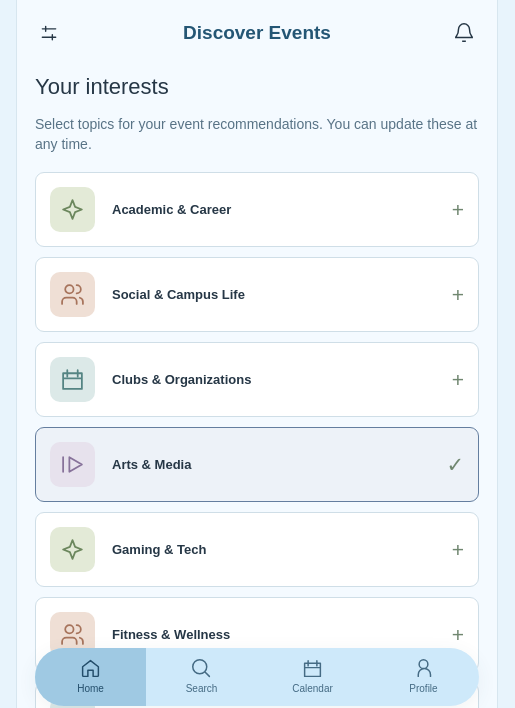
interests load, can be edited, and are saved through the API
Check: the checkbox labelled "Arts & Media ✓" is checked, box [35,428,479,502]
Click the checkbox labelled "Gaming & Tech +": (72, 550) [35,512,479,588]
(page scrolled)
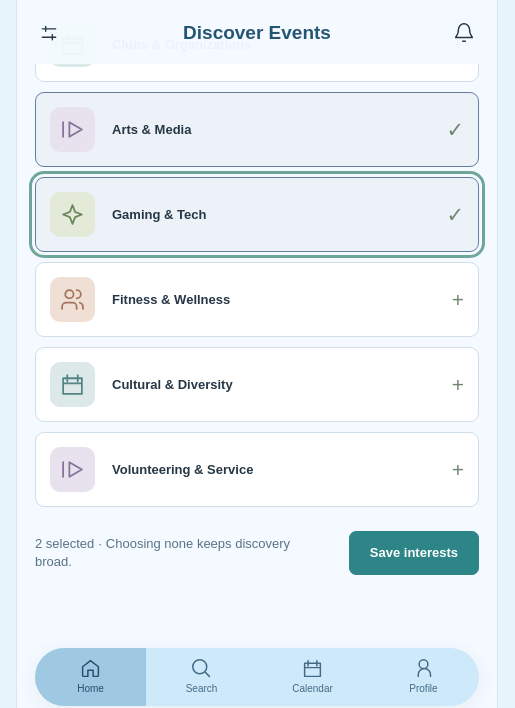
Click the button "Save interests": (414, 553) [349,532,479,575]
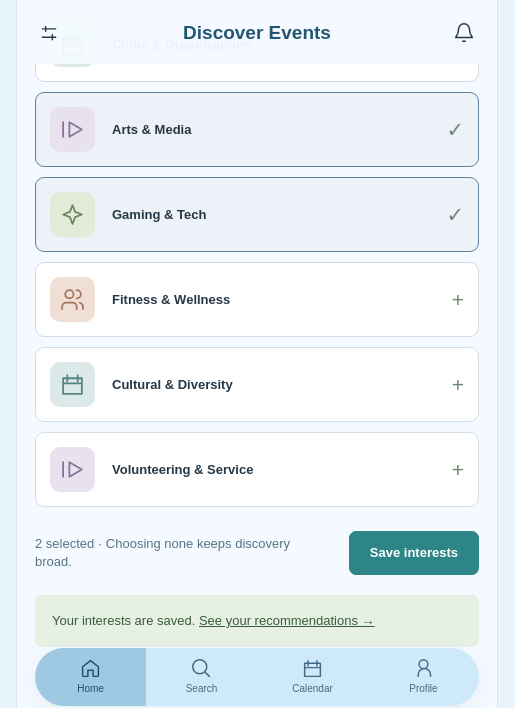
Check: the text "Your interests are saved. See your recommendations →" is shown, box [35,595,479,647]
